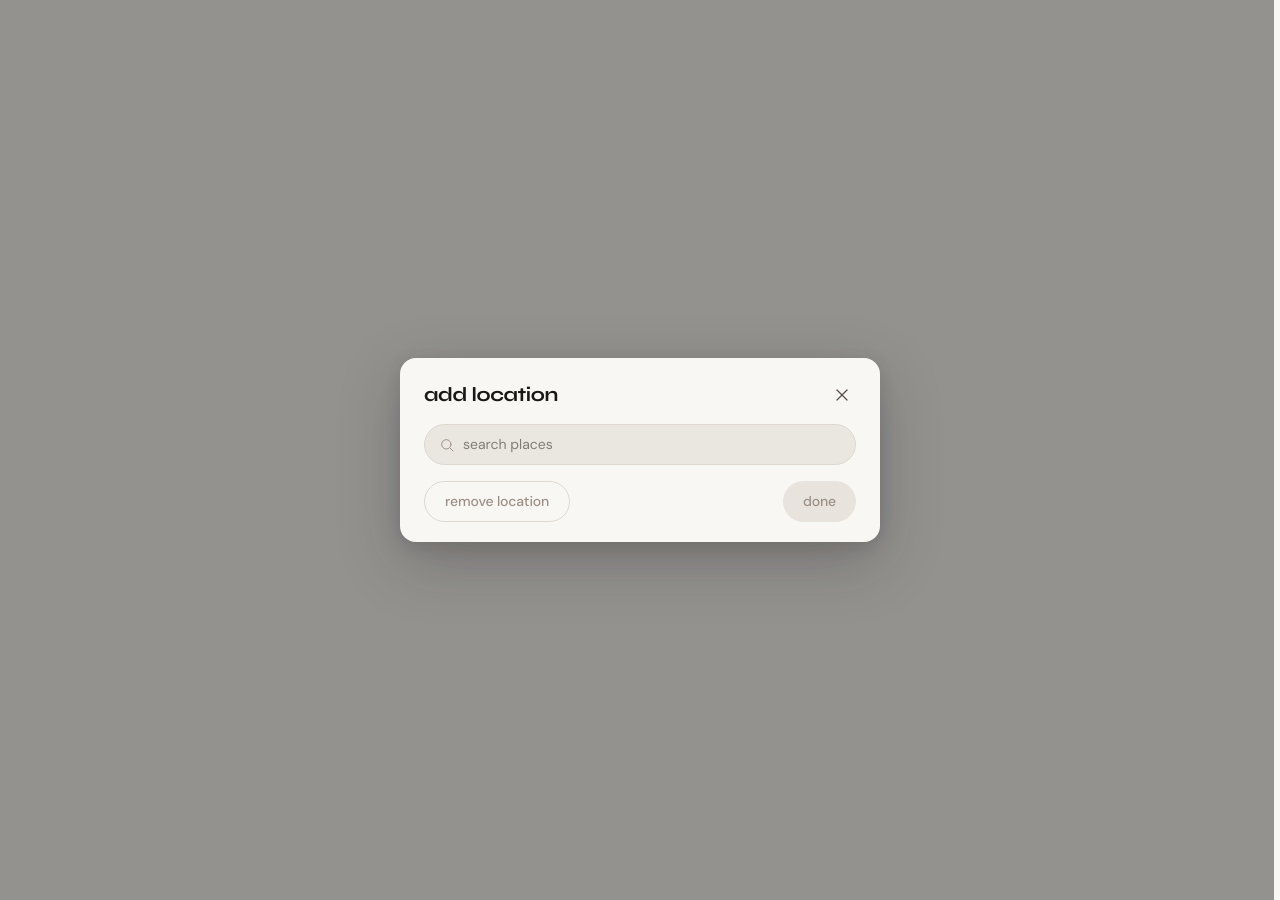
PlacePicker › offers to add the typed name only when no result has the same normalised name
The width and height of the screenshot is (1280, 900).
Type "da nang" into the field labelled "search places" at (652, 444), box x1=463 y1=434 x2=841 y2=455
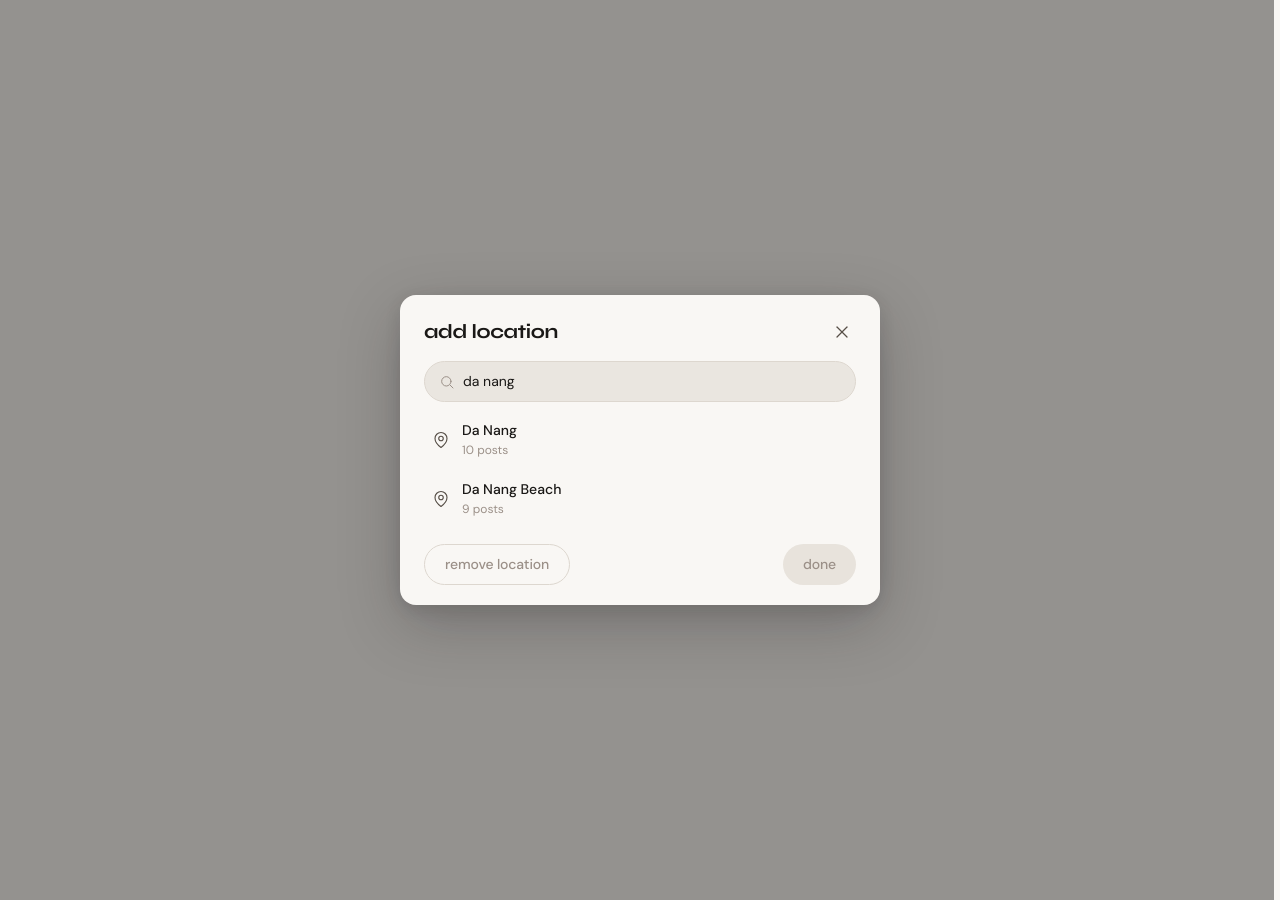
Check: the text "Da Nang Beach" is shown, box x1=462 y1=480 x2=561 y2=498
Replace the text in the field named "search places" with "da nang old quarter" at (652, 382), box x1=463 y1=371 x2=841 y2=392
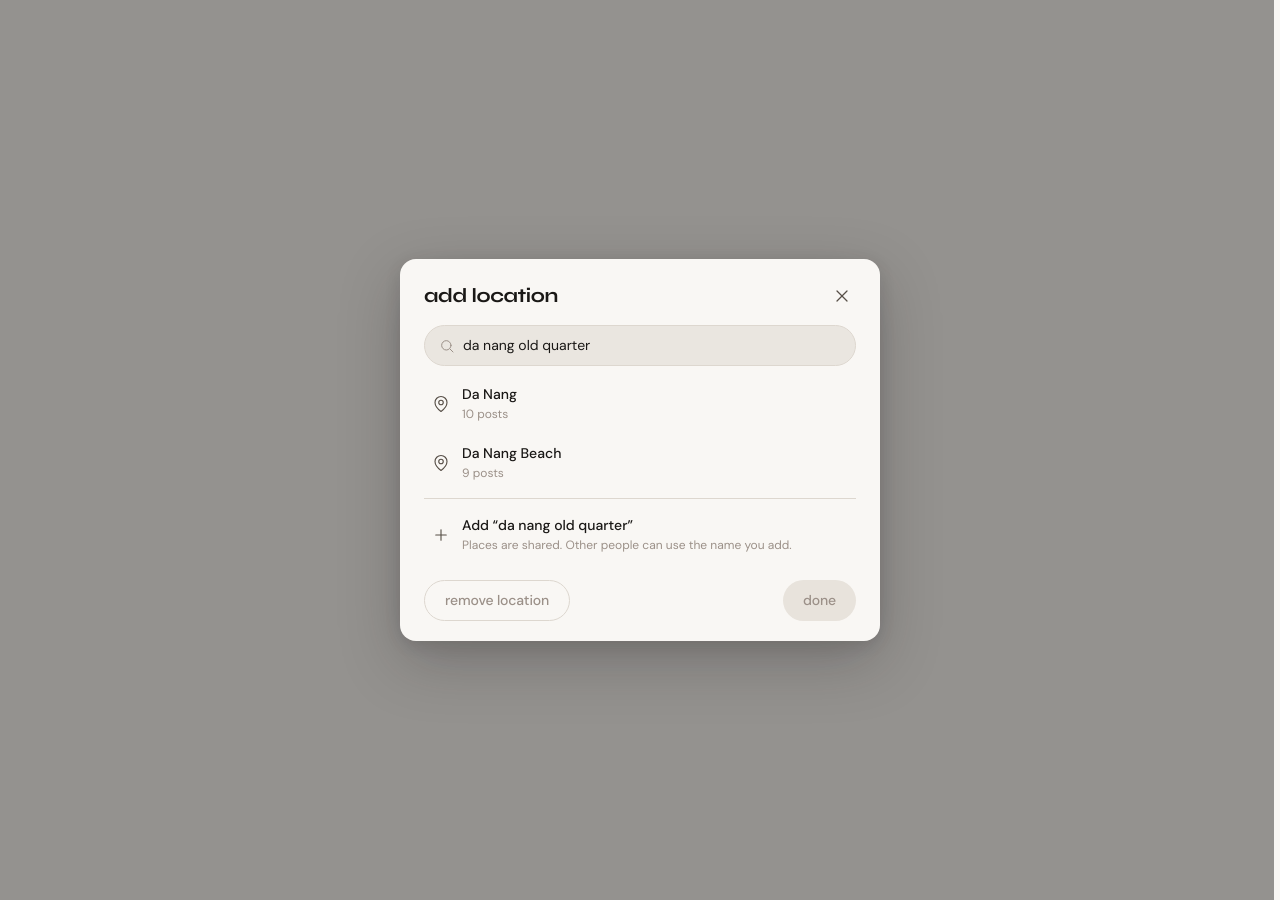
Check: the text "Add “da nang old quarter”" is shown, box x1=462 y1=516 x2=633 y2=534
Check: the text "Places are shared. Other people can use the name you add." is shown, box x1=462 y1=536 x2=848 y2=554
